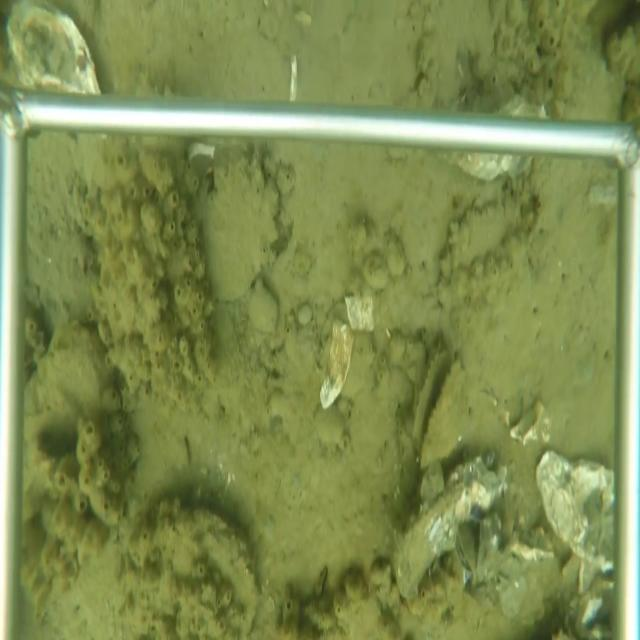Oyster-Indeterminate: (390, 452, 505, 609), (196, 167, 283, 308), (533, 445, 616, 571)
Oyster-Open: (409, 346, 472, 472), (452, 523, 478, 576)
